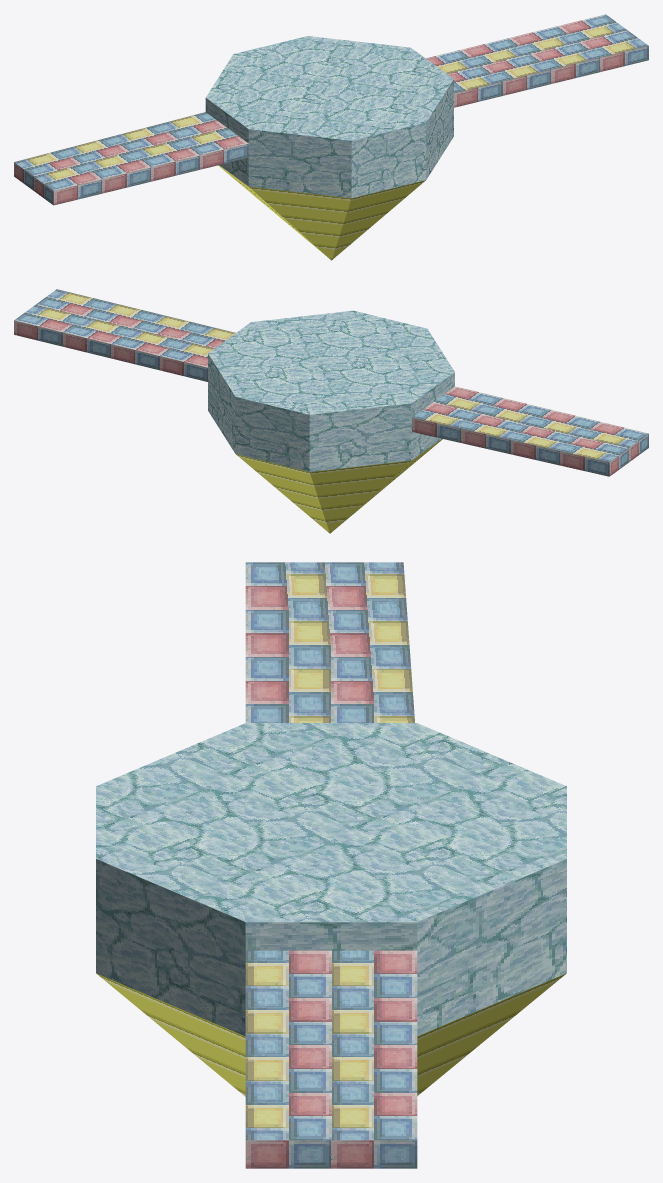
File: rc_guruguru.glb
The picture shows the model from 3 angles, top to bottom: view 1: azimuth 30°, elevation 25°; view 2: azimuth 150°, elevation 25°; view 3: azimuth 270°, elevation 25°; orthographic projection. The views are drawn at different scales.
Visible parts, largest first — view 1: rc_guruguru; view 2: rc_guruguru; view 3: rc_guruguru.
Boxes of the visible parts, x1,y1,x2,y2 form: rc_guruguru: (14, 14, 648, 260); rc_guruguru: (14, 289, 648, 533); rc_guruguru: (96, 562, 566, 1168).
Size of the model in its own units: 8.46 by 2.34 by 2.92.
3 materials, 3 textured.
